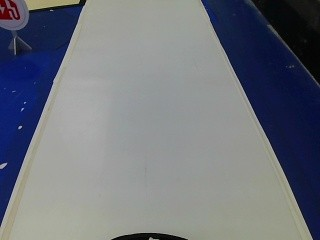battery: (0, 0, 31, 31)
